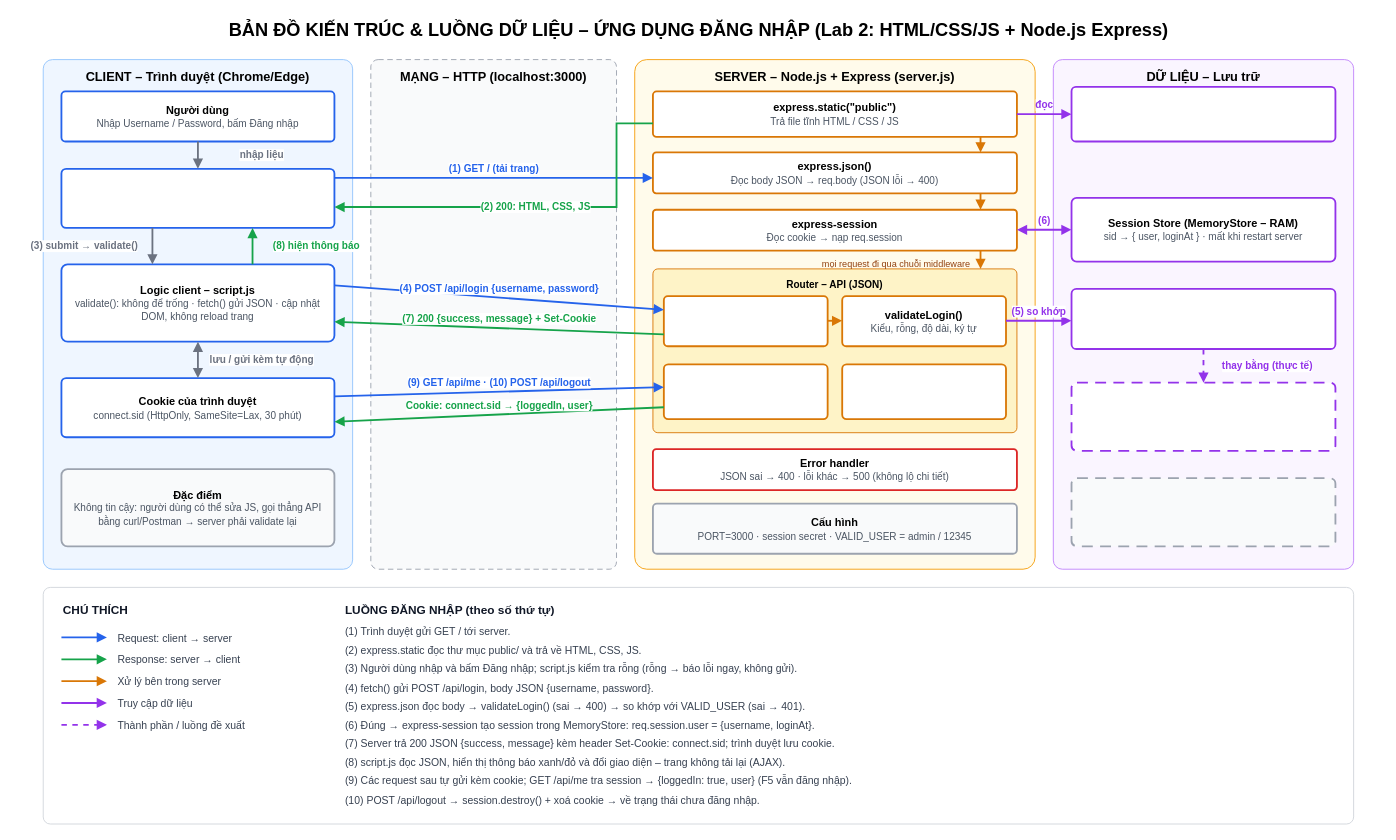
Image size: 1396x840. Some labels were removed from this diagram. The shapes that lost their labels are listed below. From the top down, each one's centre as x and y in pixels, then its label:
[1203,114]: Thư mục public/ index.html, style.css, script.js
[197,197]: Giao diện – index.html + style.css Form đăng nhập, ô báo lỗi, vùng thông báo
[745,321]: POST /api/login Đăng nhập
[1203,318]: Dữ liệu người dùng Hằng số VALID_USER trong code
[745,391]: GET /api/me Kiểm tra trạng thái
[923,391]: POST /api/logout Huỷ session, xoá cookie
[1203,416]: Database (đề xuất mở rộng) MySQL / MongoDB – bảng users, mật khẩu băm bcrypt
[1203,512]: Dịch vụ bên ngoài: không có Có thể thêm: OAuth Google, gửi email OTP, CAPTCHA
